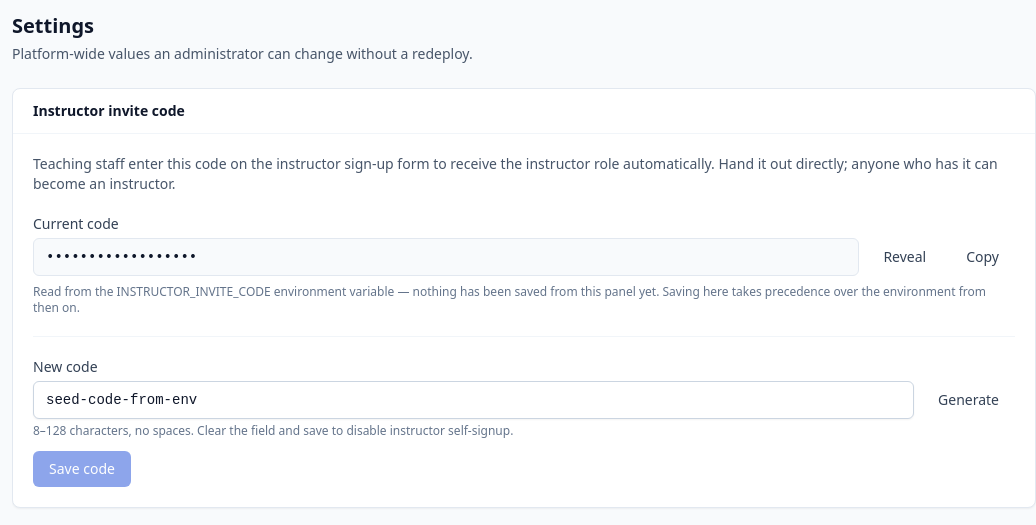
Test case: AdminSettingsPage › masks the current code until revealed and explains where it comes from
Expected: the text with test id "current-code" does not show "seed-code-from-env", [33,238,859,276]
Expected: the text "INSTRUCTOR_INVITE_CODE environment variable" is shown, [33,283,986,316]
Click the button "Reveal". click: (905, 257)
box: [867,239,942,275]
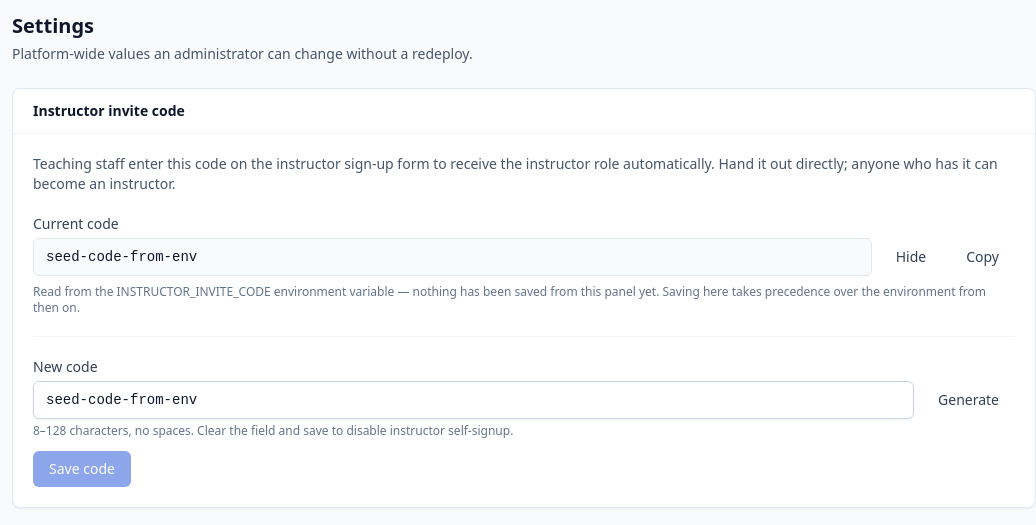
Now the text with test id "current-code" reads "seed-code-from-env", box [46,249,197,265]
Click the button "Hide". click: (911, 257)
box: [880,239,942,275]
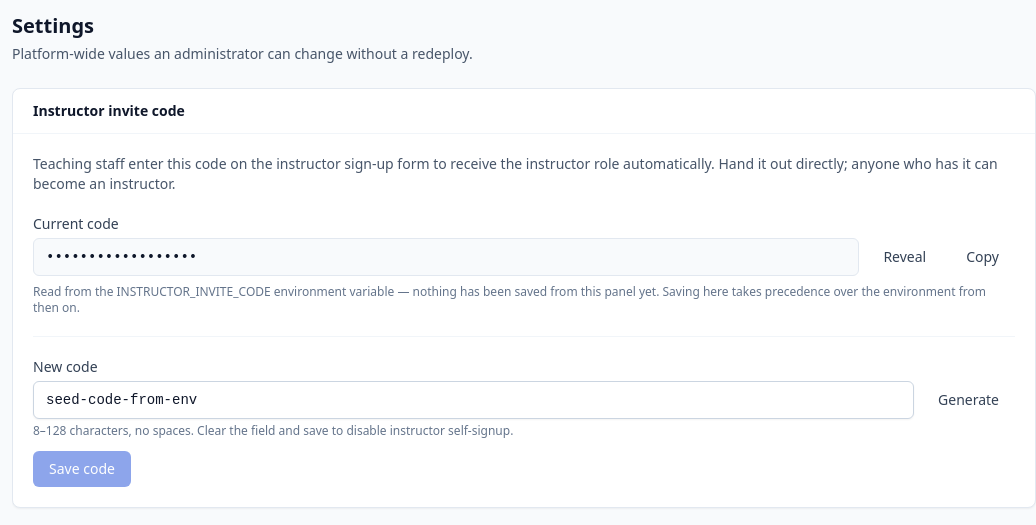
Now the text with test id "current-code" no longer shows "seed-code-from-env", box [33,238,859,276]
